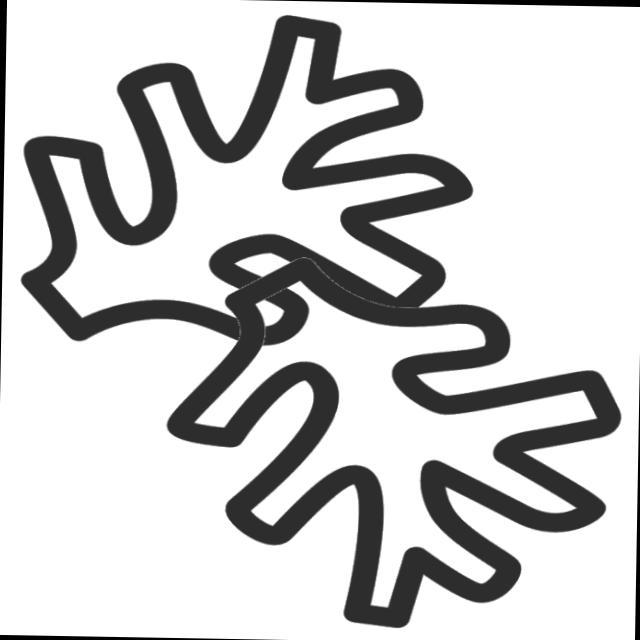coral: (147, 242, 633, 640), (8, 5, 494, 360)
